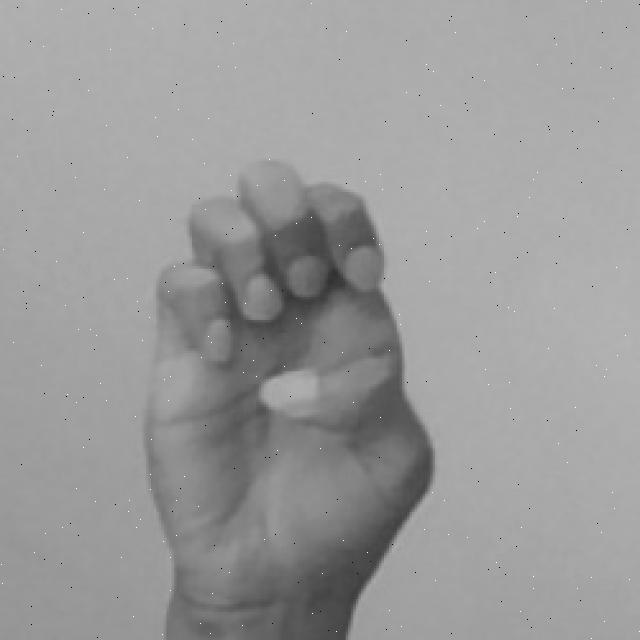E: (144, 160, 439, 640)
